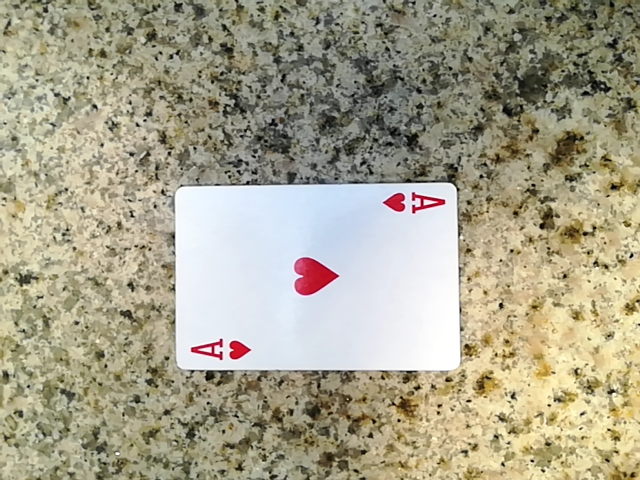hx a: (142, 192, 436, 390)
